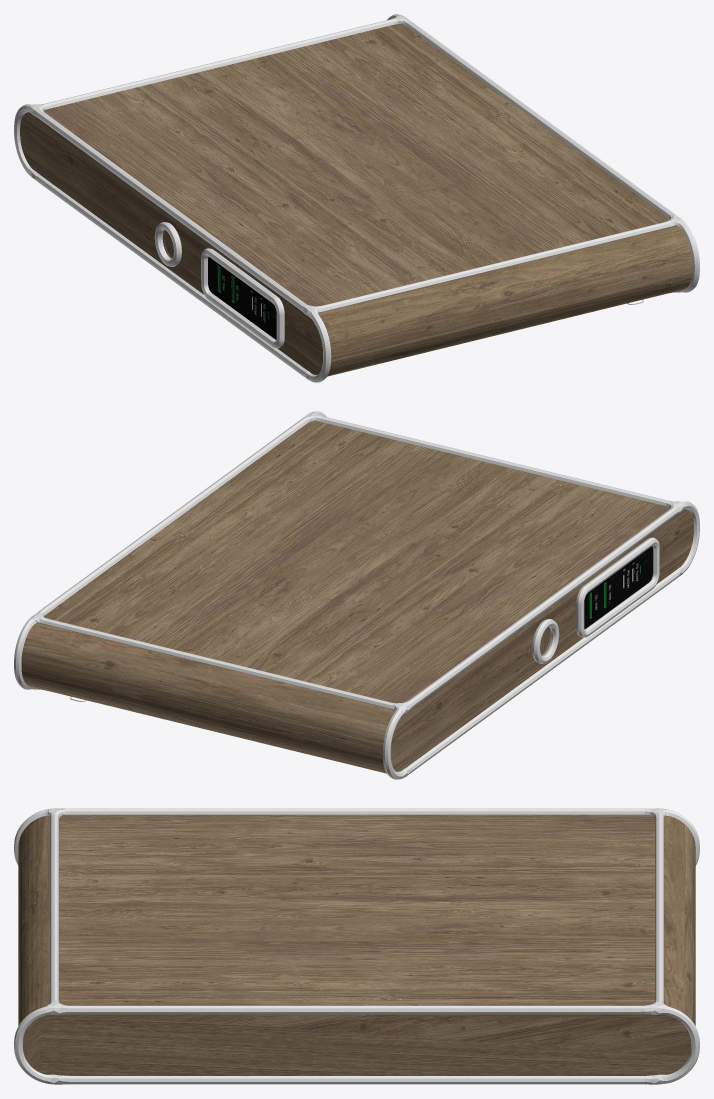
File: rack.glb
3 views of the same model, one above another, from view 1: azimuth 30°, elevation 25°; view 2: azimuth 150°, elevation 25°; view 3: azimuth 270°, elevation 25° (orthographic). The views are drawn at different scales.
Parts seen in each view (by area): view 1: rack, rackNeon, rackUsb; view 2: rack, rackNeon, rackUsb; view 3: rack, rackNeon.
Boxes of the visible parts, <box> form: rack: <box>20,24,692,376</box>; rackNeon: <box>14,14,699,382</box>; rackUsb: <box>208,257,276,339</box>; rack: <box>21,421,693,773</box>; rackNeon: <box>14,411,699,779</box>; rackUsb: <box>584,546,652,628</box>; rack: <box>18,814,695,1075</box>; rackNeon: <box>14,808,699,1084</box>.
Bounding box in the file's own units: 0.2485 × 0.0469 × 0.3546.
Materials: 4 (3 with a texture image).
